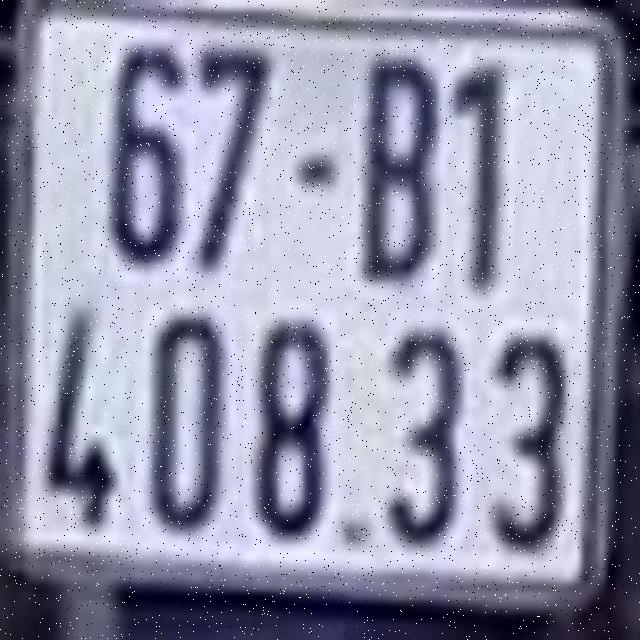0: (148, 311, 223, 531)
1: (449, 55, 510, 291)
3: (386, 323, 462, 546), (491, 328, 566, 552)
4: (44, 304, 119, 530)
6: (111, 39, 185, 264)
7: (192, 42, 272, 271)
8: (256, 315, 328, 539)
B: (359, 50, 440, 285)
